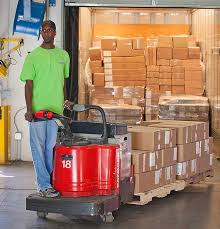Pallet Jack: (23, 102, 214, 224)
